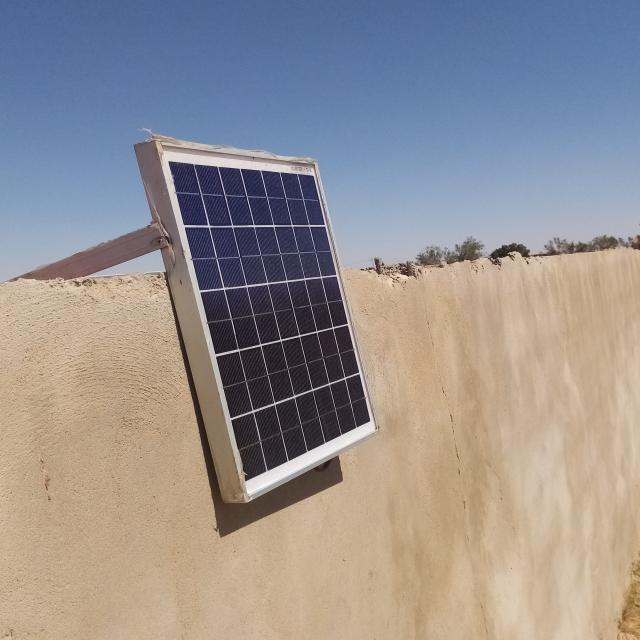no faulty: (158, 141, 380, 499)
